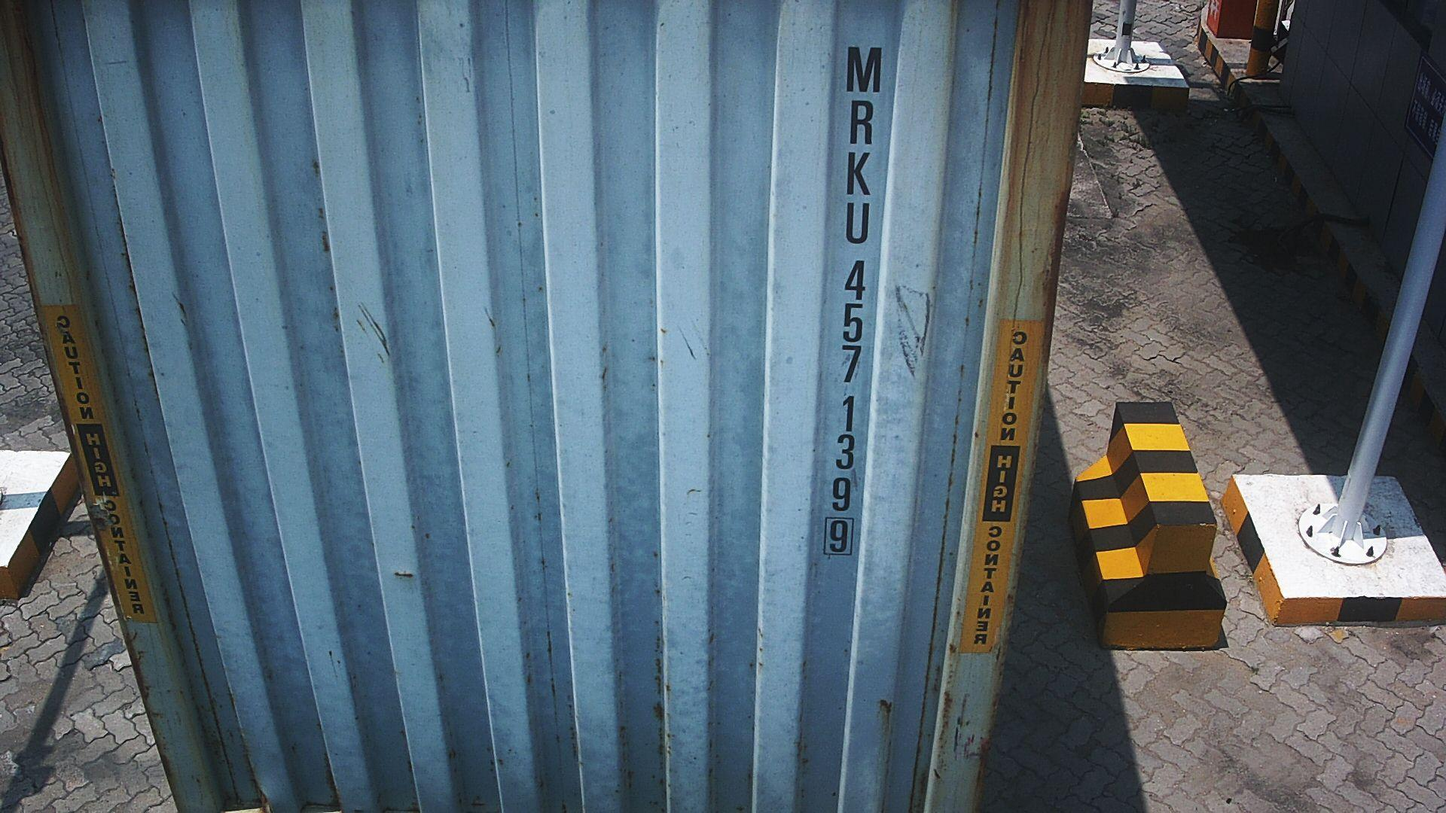container-numbers: (817, 39, 889, 563)
